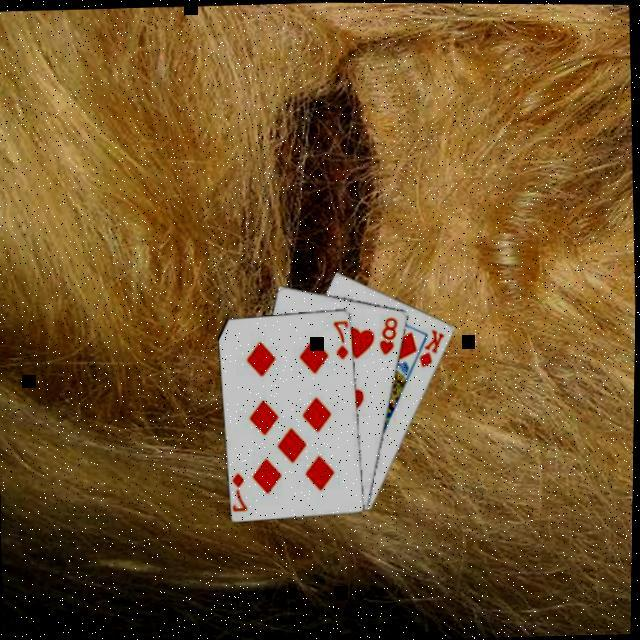7D: (328, 315, 351, 360), (228, 467, 251, 512)
8H: (374, 311, 401, 356)
KD: (414, 324, 448, 368)
